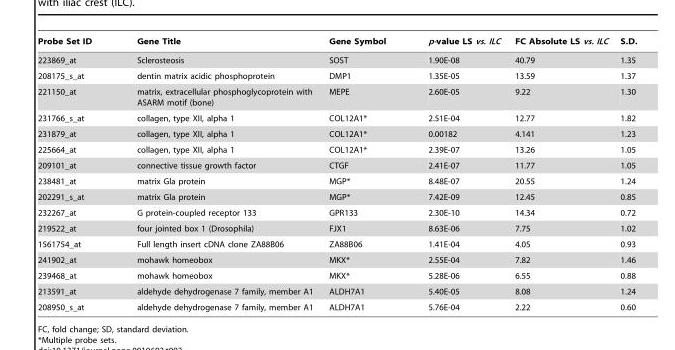table: (37, 36, 636, 311)
table column: (113, 36, 320, 311), (507, 36, 614, 311), (406, 36, 507, 311), (320, 36, 406, 311), (37, 36, 113, 311), (614, 36, 636, 311)
table column header: (37, 36, 636, 50)
table row: (37, 83, 636, 110), (37, 50, 636, 67), (37, 67, 636, 83), (37, 125, 636, 141), (37, 141, 636, 157), (37, 157, 636, 173), (37, 188, 636, 204), (37, 204, 636, 220), (37, 220, 636, 236), (37, 251, 636, 267), (37, 267, 636, 283), (37, 283, 636, 299), (37, 110, 636, 125), (37, 173, 636, 188), (37, 236, 636, 251), (37, 36, 636, 50), (37, 299, 636, 311)
